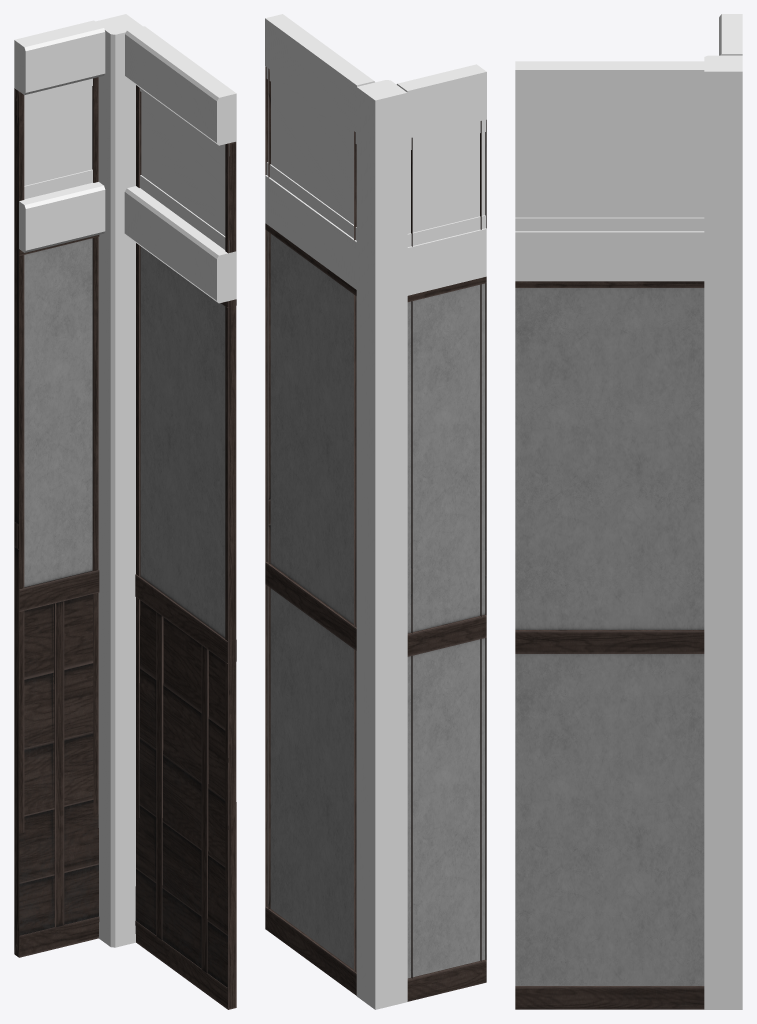
File: WallHalf_Angle02.FBX
The picture shows the model from 3 angles, left to right: view 1: azimuth 30°, elevation 25°; view 2: azimuth 210°, elevation 25°; view 3: azimuth 270°, elevation 25°; orthographic projection. The views are drawn at different scales.
Parts seen in each view (by area): view 1: WallHalf_A_013, WallHalf_A_012, WallHalf_A_008, WallHalf_A_011, WallHalf_A_014, WallHalf_A_009, WallHalf_A_010; view 2: WallHalf_A_013, WallHalf_A_012, WallHalf_A_008, WallHalf_A_011, WallHalf_A_009, WallHalf_A_014, WallHalf_A_010; view 3: WallHalf_A_013, WallHalf_A_008, WallHalf_A_009, WallHalf_A_011, WallHalf_A_014.
Part boxes in pixels (left/top/right/bottom): WallHalf_A_013: left=135, top=85, right=236, bottom=1009; WallHalf_A_012: left=14, top=77, right=99, bottom=957; WallHalf_A_008: left=95, top=14, right=142, bottom=947; WallHalf_A_011: left=124, top=26, right=236, bottom=303; WallHalf_A_014: left=14, top=20, right=105, bottom=252; WallHalf_A_009: left=140, top=88, right=229, bottom=252; WallHalf_A_010: left=16, top=78, right=92, bottom=199; WallHalf_A_013: left=265, top=66, right=356, bottom=995; WallHalf_A_012: left=407, top=119, right=486, bottom=1001; WallHalf_A_008: left=356, top=80, right=407, bottom=1009; WallHalf_A_011: left=265, top=14, right=374, bottom=289; WallHalf_A_009: left=266, top=67, right=356, bottom=240; WallHalf_A_014: left=396, top=64, right=486, bottom=295; WallHalf_A_010: left=407, top=119, right=485, bottom=246; WallHalf_A_013: left=515, top=281, right=704, bottom=1009; WallHalf_A_008: left=704, top=55, right=742, bottom=1009; WallHalf_A_009: left=515, top=119, right=704, bottom=231; WallHalf_A_011: left=515, top=61, right=704, bottom=281; WallHalf_A_014: left=719, top=14, right=742, bottom=55.
Bounding box in the file's own units: 0.4229 × 3.3 × 0.7237.
